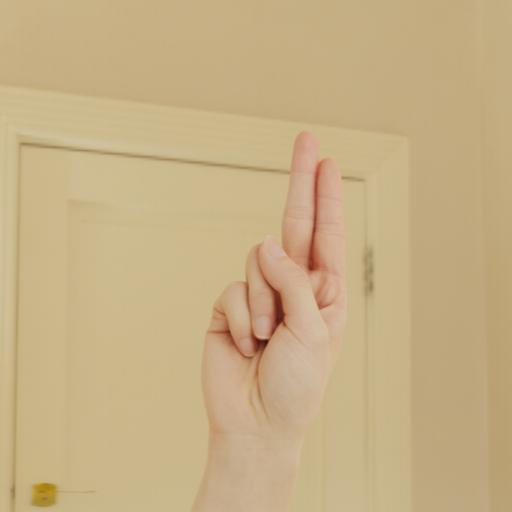U: (172, 96, 406, 507)
